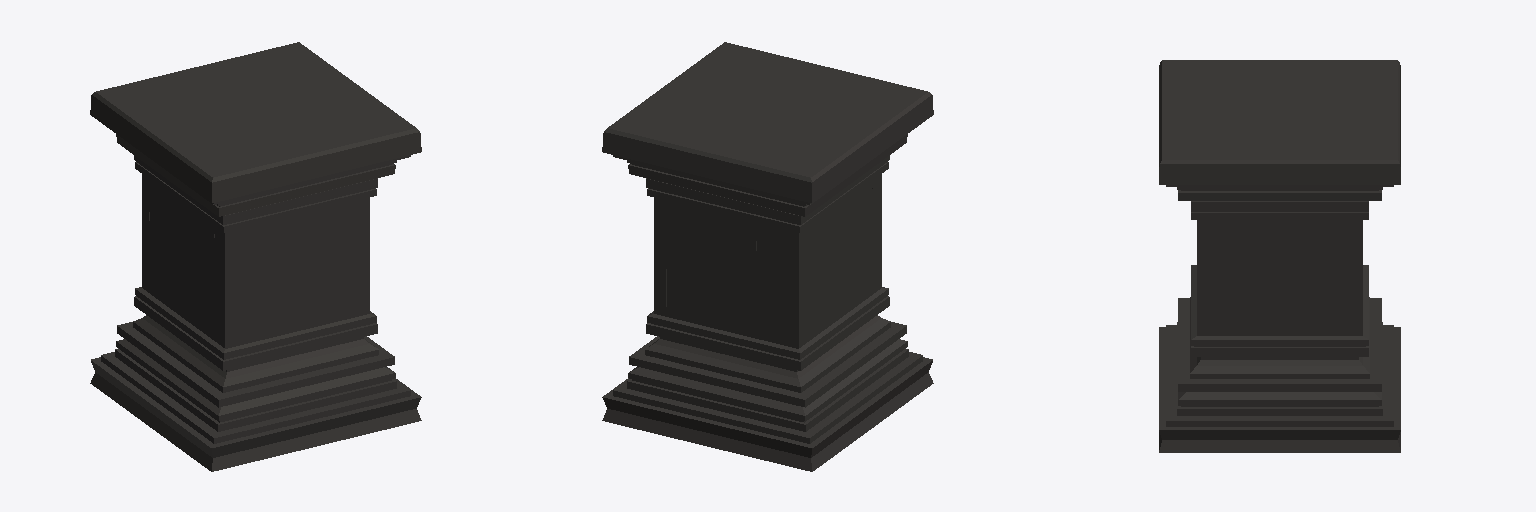
Rendered from Pedestal2.obj.
3 renders of one model, left to right at view 1: azimuth 30°, elevation 25°; view 2: azimuth 150°, elevation 25°; view 3: azimuth 270°, elevation 25°, orthographic.
Parts seen in each view (by area): view 1: Pedestal2_Cube.008; view 2: Pedestal2_Cube.008; view 3: Pedestal2_Cube.008.
Part boxes in pixels (x1,y1,x2,y2): Pedestal2_Cube.008: (90, 42, 421, 471); Pedestal2_Cube.008: (602, 42, 933, 471); Pedestal2_Cube.008: (1159, 60, 1400, 452).
Bounding box in the file's own units: 1.74 × 2.31 × 1.74.